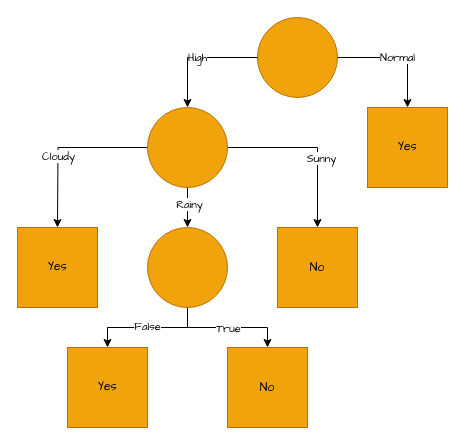
This 465x445 diagram has some shape labels left out. Here are the shapes that lost their labels. From the top down, the box of each, then its label:
(256, 16, 338, 98): 1 Humidity
(146, 106, 228, 188): 1.1 OutLook
(146, 226, 228, 308): 1.1.2 Windy
